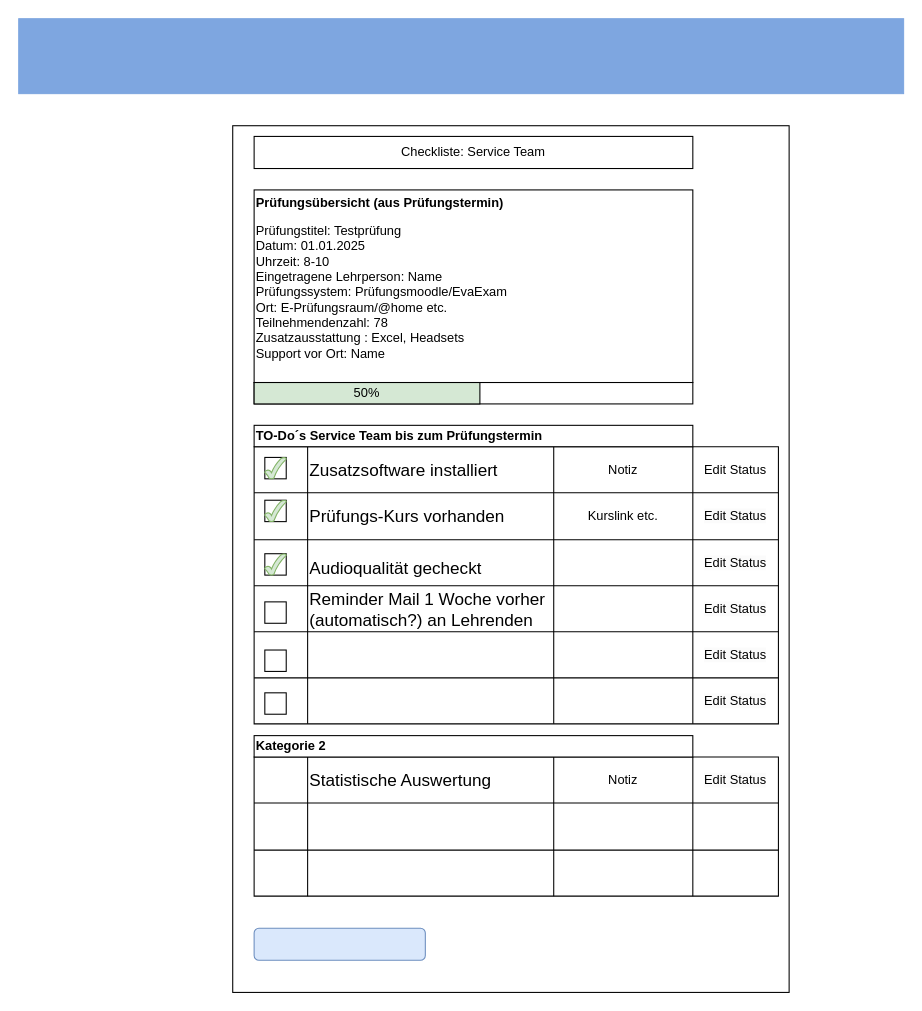
Some shapes in this 922 by 1011 pixel diagram are drawn without their labels. Each missing label, with the centre of its shape:
Export nach PDF/Excel/etc.: point 339,943
Mockup Checkliste: SERVICE TEAM: point 461,56
